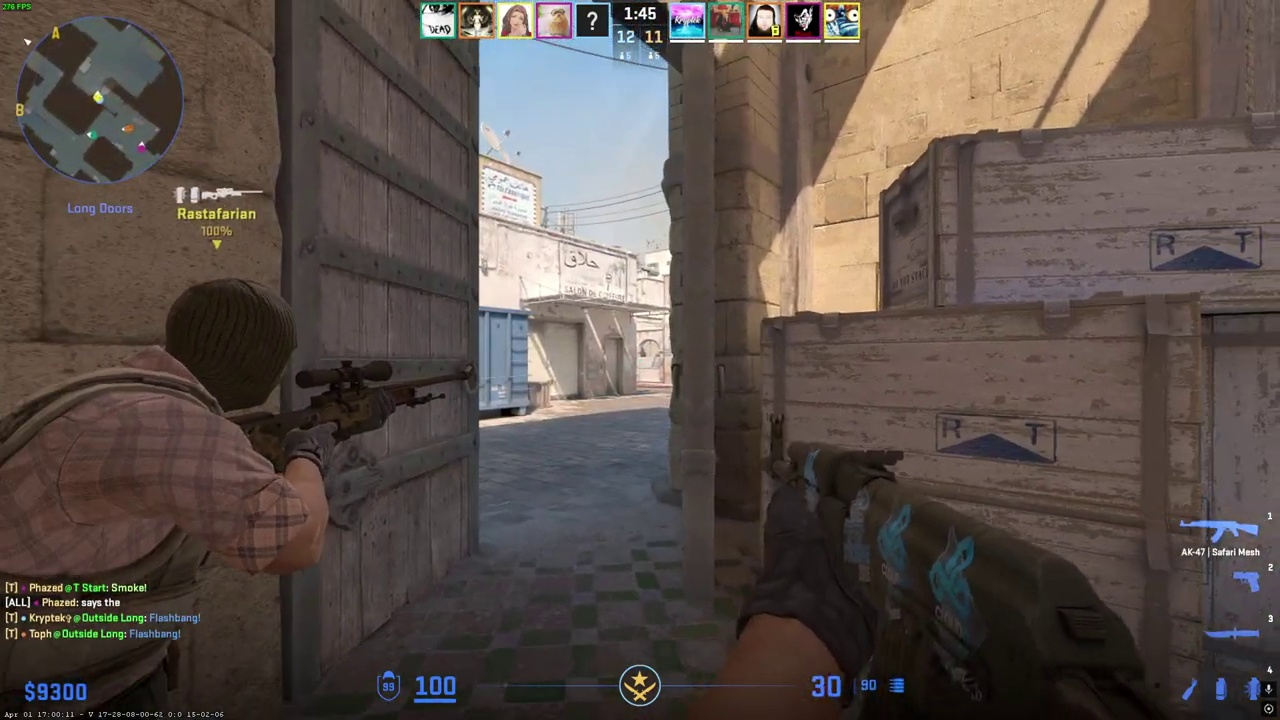Terrorist: (0, 278, 311, 720)
